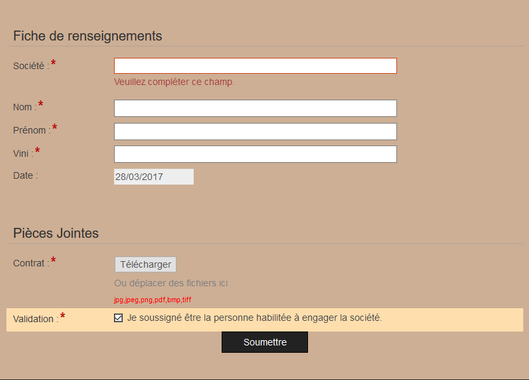error_field: (113, 57, 397, 75)
error_message: (112, 76, 233, 88), (113, 296, 193, 305)
